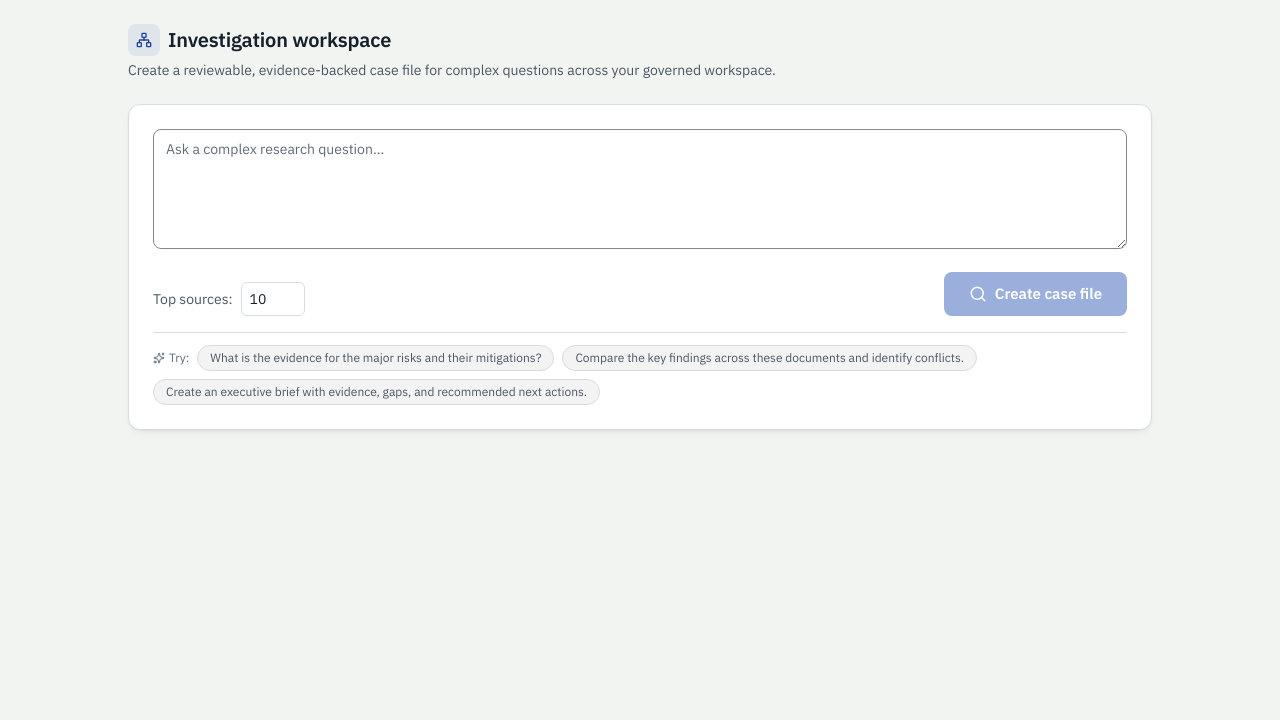
InvestigationPage — background job + polling (BUG-10) › refreshes an expired session mid-poll and still shows the report
Type "What are the key risks?" into the text box with placeholder "Ask a complex research question..." at [640, 189], box x1=153 y1=129 x2=1127 y2=249
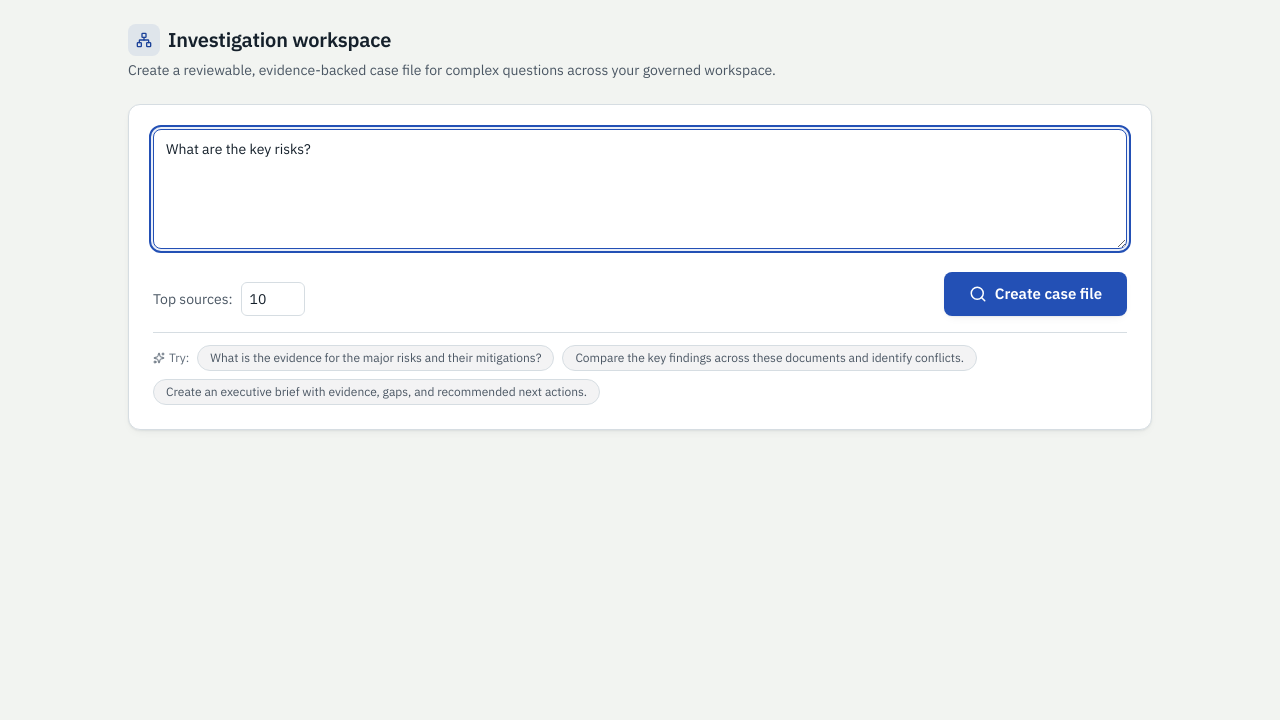
Click the button "Create case file" at [1035, 294], box x1=944 y1=272 x2=1127 y2=316
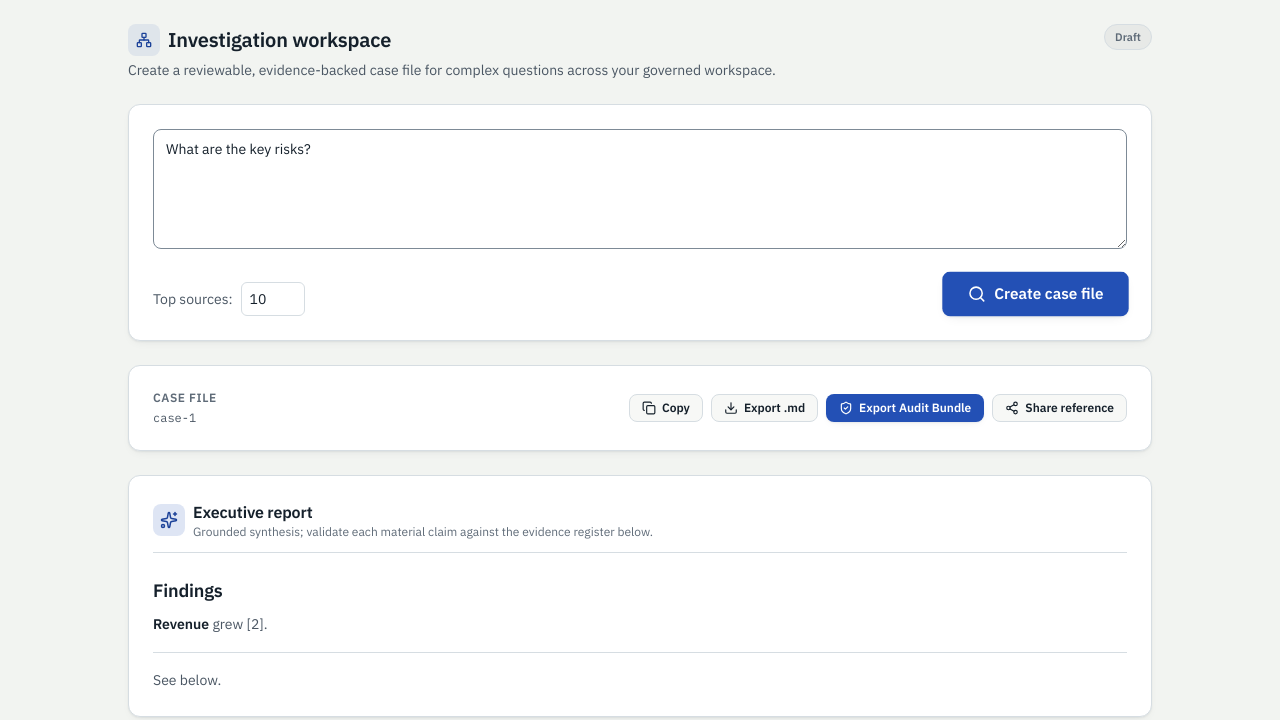
Now the text "Revenue" is shown, box x1=153 y1=615 x2=209 y2=633
